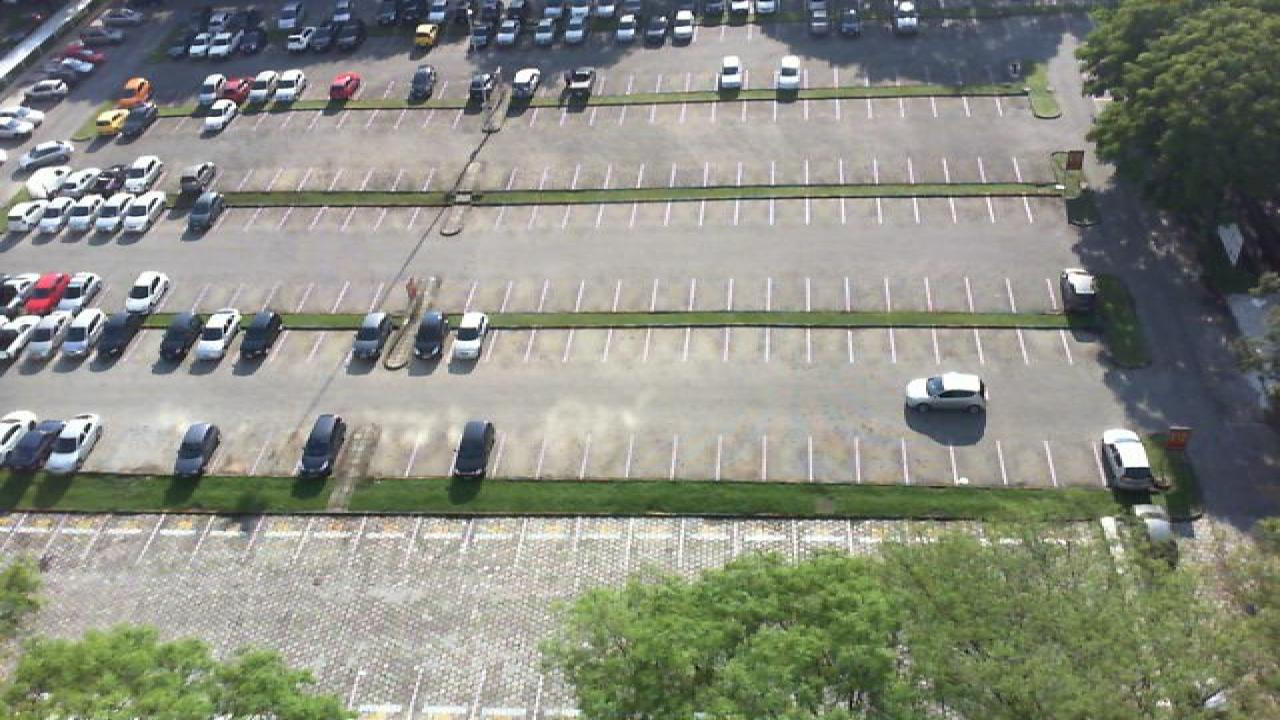Car: (0, 413, 68, 470), (904, 371, 988, 413), (1100, 428, 1156, 490), (44, 413, 102, 469), (300, 413, 344, 471), (232, 311, 282, 361), (96, 313, 148, 361), (190, 310, 240, 359), (156, 312, 204, 361), (174, 423, 220, 474), (444, 310, 490, 360), (58, 312, 108, 358), (452, 420, 492, 477), (24, 313, 72, 359), (346, 309, 390, 358), (20, 272, 72, 313), (40, 167, 104, 199), (0, 312, 44, 358), (410, 309, 450, 359), (124, 270, 170, 313), (54, 271, 102, 312), (6, 191, 54, 232), (62, 192, 110, 231), (34, 192, 80, 232), (1060, 268, 1100, 312), (92, 194, 138, 231), (180, 190, 220, 232), (124, 192, 166, 229), (120, 154, 162, 191), (18, 138, 76, 164), (0, 274, 40, 310), (198, 101, 238, 135), (88, 163, 130, 195), (242, 68, 278, 105), (560, 66, 596, 102), (176, 161, 216, 193), (92, 108, 136, 137), (120, 102, 156, 136), (504, 66, 540, 100), (20, 77, 68, 102), (774, 54, 804, 94), (274, 68, 308, 103), (0, 101, 44, 127), (210, 75, 246, 106), (406, 64, 436, 101), (716, 55, 746, 92), (466, 66, 496, 102), (888, 0, 920, 33), (540, 12, 572, 45), (230, 22, 264, 53), (504, 12, 536, 44), (464, 11, 494, 45), (840, 0, 868, 33), (50, 51, 94, 72), (116, 76, 150, 103), (610, 10, 640, 40), (328, 72, 360, 100), (578, 11, 606, 43), (346, 24, 378, 52), (286, 26, 320, 52), (184, 30, 216, 57), (670, 9, 698, 39), (412, 22, 442, 50), (0, 112, 30, 139), (208, 29, 238, 55), (806, 0, 832, 29), (642, 11, 668, 40), (102, 7, 140, 25), (70, 40, 106, 57), (338, 0, 366, 20), (752, 0, 778, 21), (392, 0, 418, 19), (278, 0, 302, 20)
